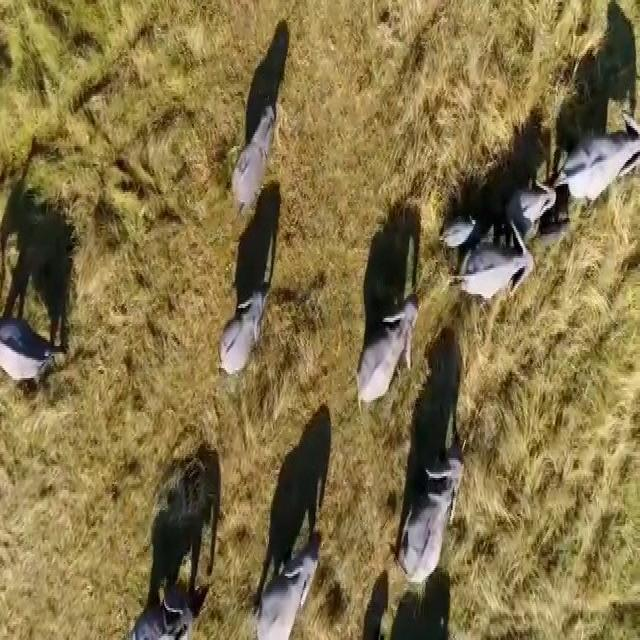Elephant: (398, 447, 471, 599), (349, 293, 422, 414), (230, 79, 283, 222), (561, 119, 640, 214), (256, 546, 334, 640), (218, 279, 273, 389), (460, 234, 543, 300), (0, 303, 54, 395), (133, 596, 209, 640), (513, 180, 558, 229), (442, 212, 496, 252)
